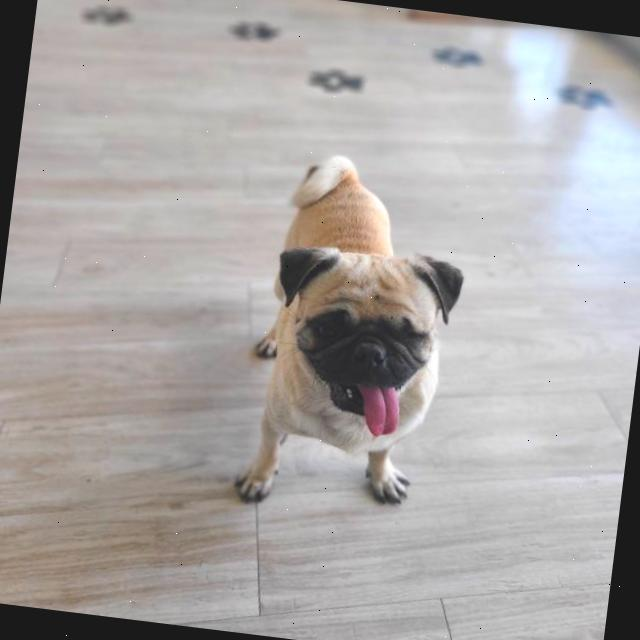pug_dog: (252, 226, 476, 448)
